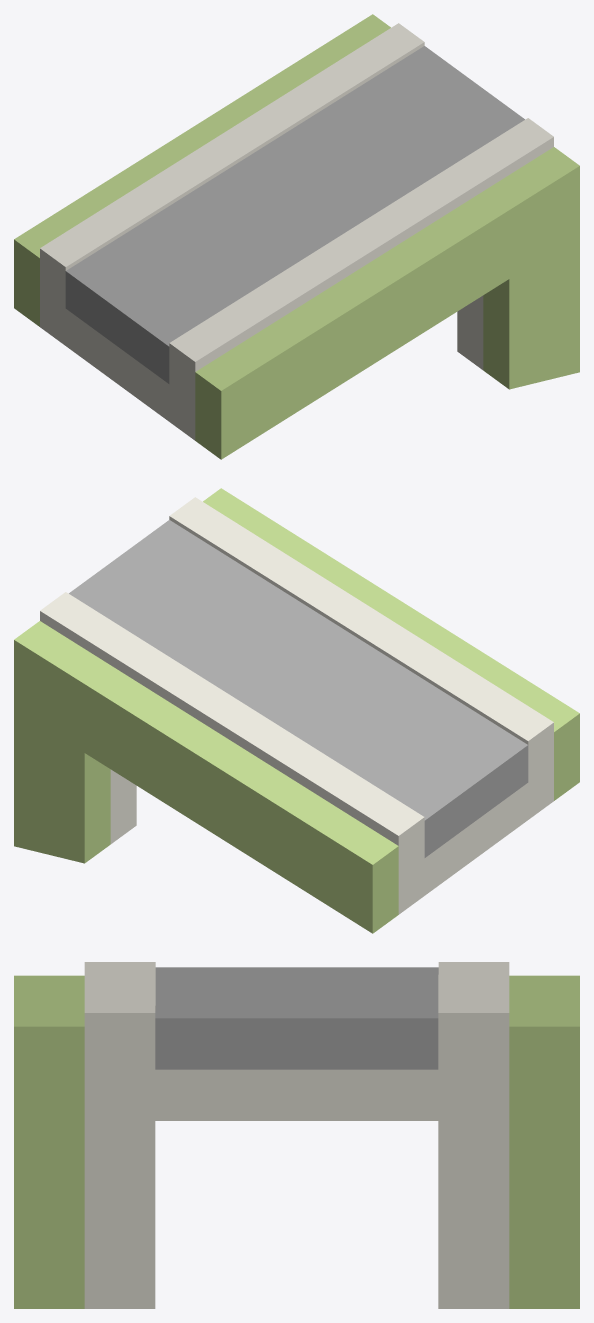
The model's file is tile079.glb.
The picture shows the model from 3 angles, top to bottom: view 1: azimuth 30°, elevation 25°; view 2: azimuth 150°, elevation 25°; view 3: azimuth 270°, elevation 25°; orthographic projection. The views are drawn at different scales.
Parts seen in each view (by area): view 1: tile079; view 2: tile079; view 3: tile079.
Part boxes in pixels (box(x1,y1,x2,y2)): tile079: box(14, 14, 579, 459); tile079: box(14, 488, 579, 933); tile079: box(14, 962, 579, 1308).
Bounding box in the file's own units: 1 × 0.5767 × 1.
